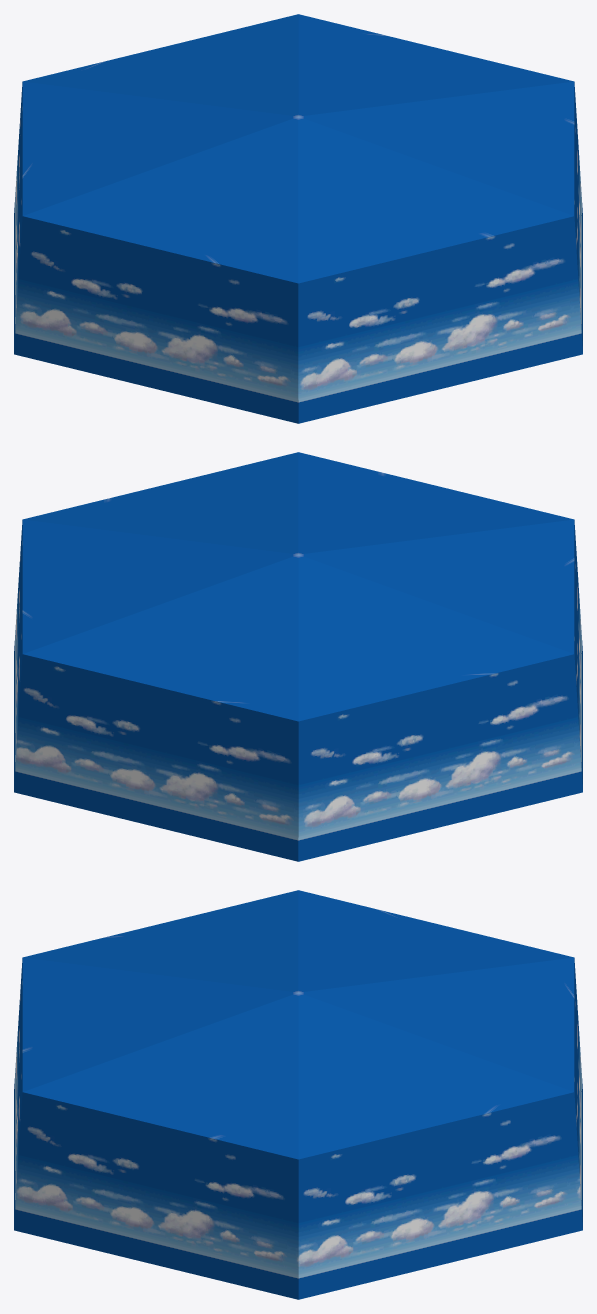
Rendered from ds_mario_gc.glb.
3 views of the same model, one above another, from view 1: azimuth 30°, elevation 25°; view 2: azimuth 150°, elevation 25°; view 3: azimuth 270°, elevation 25° (orthographic).
Visible parts, largest first — view 1: old_mario_gc; view 2: old_mario_gc; view 3: old_mario_gc.
Part boxes in pixels (x1,y1,x2,y2): old_mario_gc: [14, 14, 582, 423]; old_mario_gc: [14, 452, 582, 861]; old_mario_gc: [14, 890, 582, 1299].
Size of the model in its own units: 1263 by 357 by 1094.
Materials: 23 (23 with a texture image).
